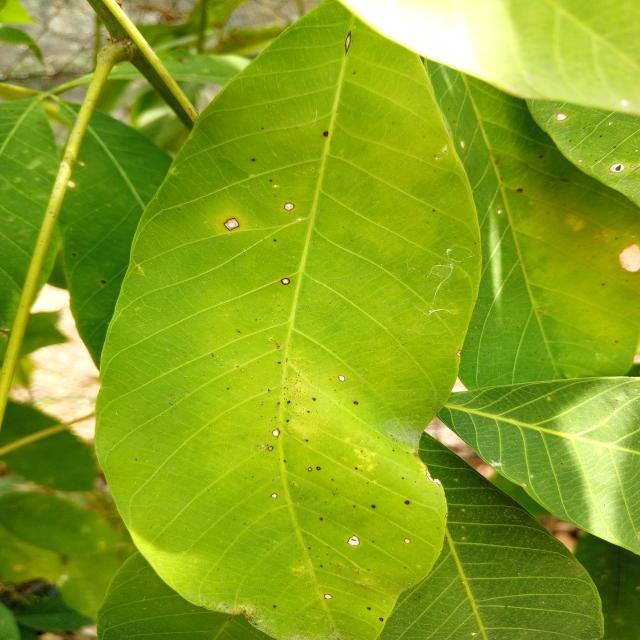Colletotrichum: (224, 218, 239, 230), (609, 163, 624, 173), (347, 535, 360, 546), (284, 202, 295, 212), (281, 278, 290, 285), (272, 429, 280, 436), (338, 375, 346, 381), (324, 594, 333, 599), (271, 493, 278, 498), (404, 538, 410, 543), (268, 446, 273, 451), (323, 132, 329, 136), (577, 159, 583, 163), (379, 618, 383, 622), (405, 500, 409, 504), (372, 504, 376, 508), (308, 467, 312, 471), (316, 467, 321, 470), (630, 165, 635, 168), (353, 402, 358, 404), (287, 401, 290, 404)
